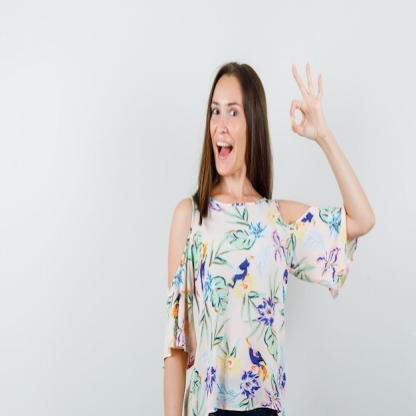ok: (288, 58, 326, 145)
